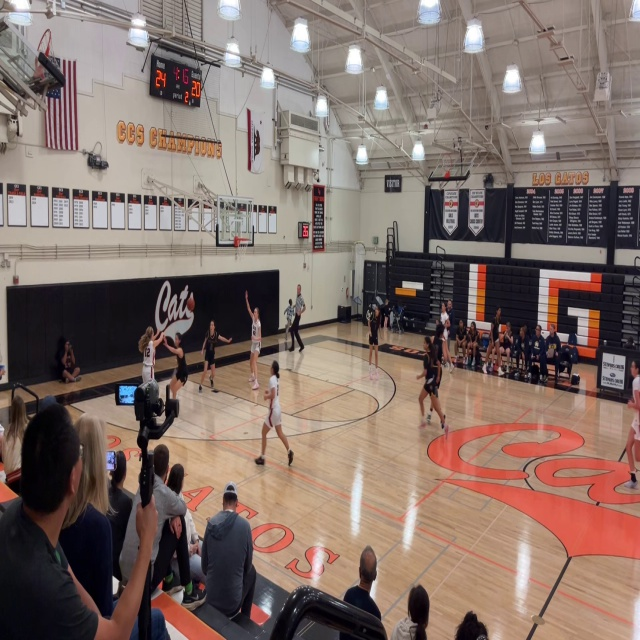Basketball: (186, 295, 195, 310)
